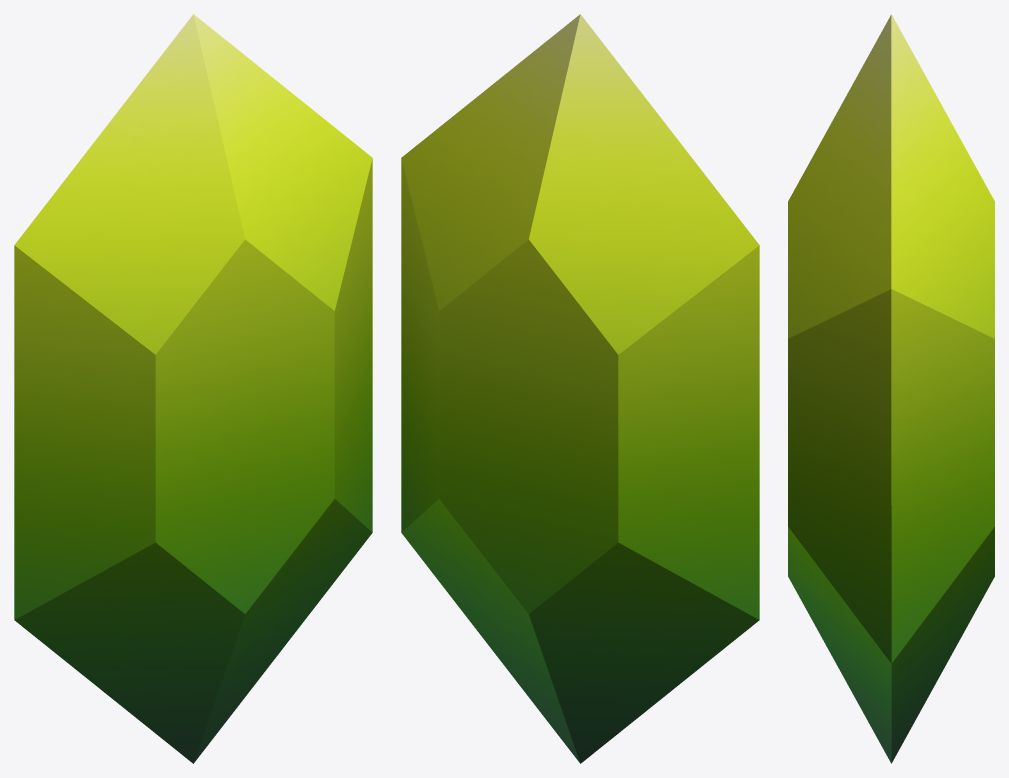
Rendered from gem12.fbx.
The picture shows the model from 3 angles, left to right: view 1: azimuth 30°, elevation 25°; view 2: azimuth 150°, elevation 25°; view 3: azimuth 270°, elevation 25°; orthographic projection.
Visible parts, largest first — view 1: Gem12; view 2: Gem12; view 3: Gem12.
Part boxes in pixels (x1,y1,x2,y2): Gem12: (14,14,372,763); Gem12: (401,14,759,763); Gem12: (788,14,994,763).
Bounding box in the file's own units: 0.5 × 1 × 0.25.
